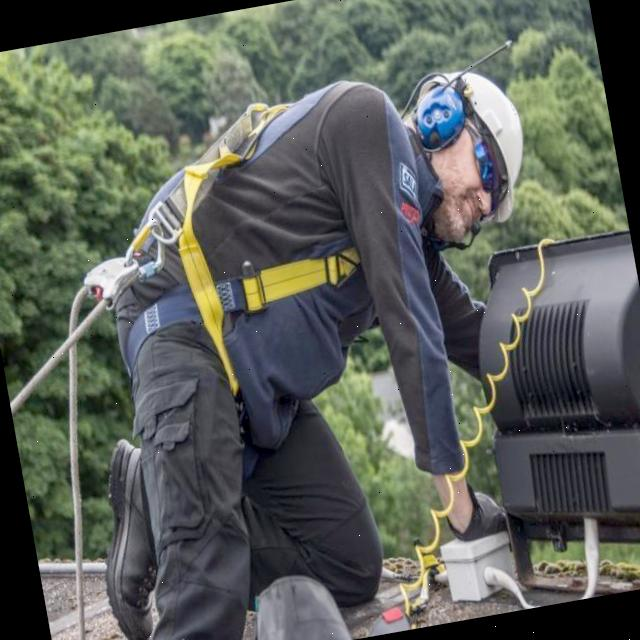boots: (67, 421, 193, 640)
